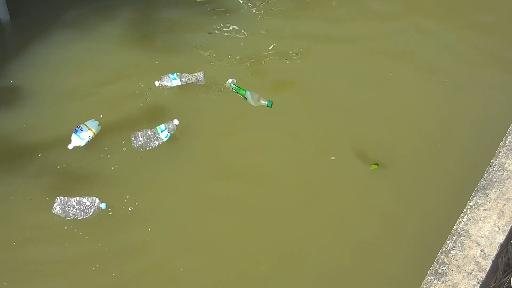leaf: (364, 155, 389, 174)
plastic: (219, 70, 276, 118), (36, 192, 112, 226), (144, 56, 216, 91), (50, 104, 106, 148), (129, 117, 188, 147)
